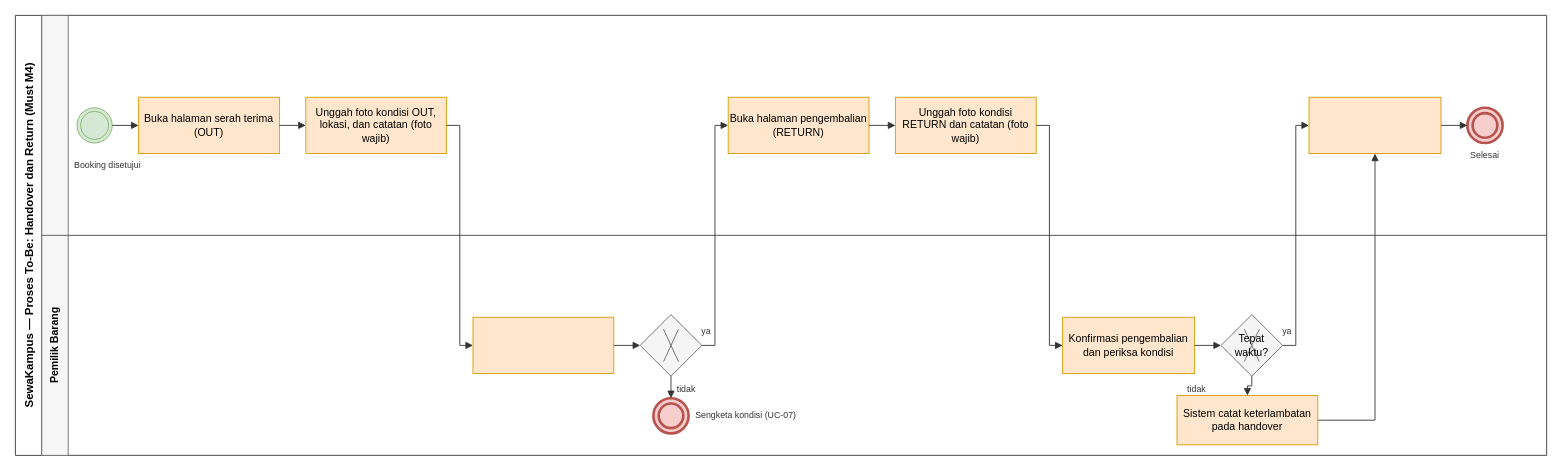
The diagram is 1562 pixels wide and 471 high, and some of its shapes have lost their labels. Here are the shapes that lost their labels. From the top down, the box of each, then its label:
(41, 15, 1547, 235): Penyewa (Mahasiswa)
(1308, 96, 1441, 154): Ubah status RETURNED lalu COMPLETED
(472, 316, 614, 374): Periksa barang dan konfirmasi
(639, 314, 702, 376): Sesuai?
